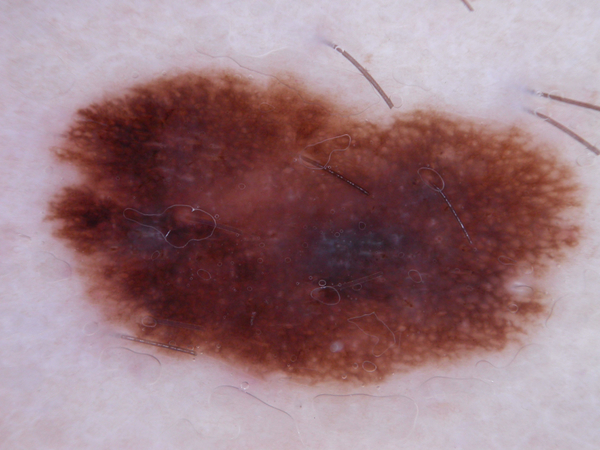Detected Lesion: (37, 58, 586, 387)
